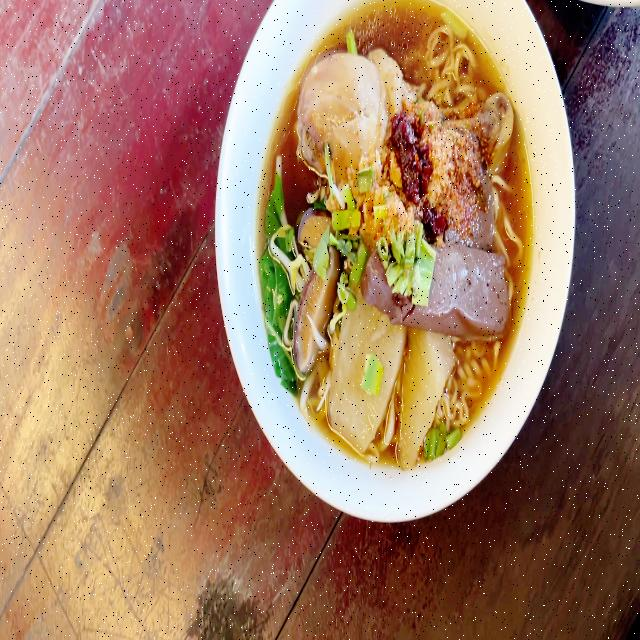boiled_chicken_blood_jelly: (436, 245, 508, 339), (364, 255, 394, 311), (480, 159, 495, 252)
chicken_drumstick: (296, 48, 512, 176)
daikon_radish: (328, 332, 452, 453)
noodle: (285, 26, 503, 426)
